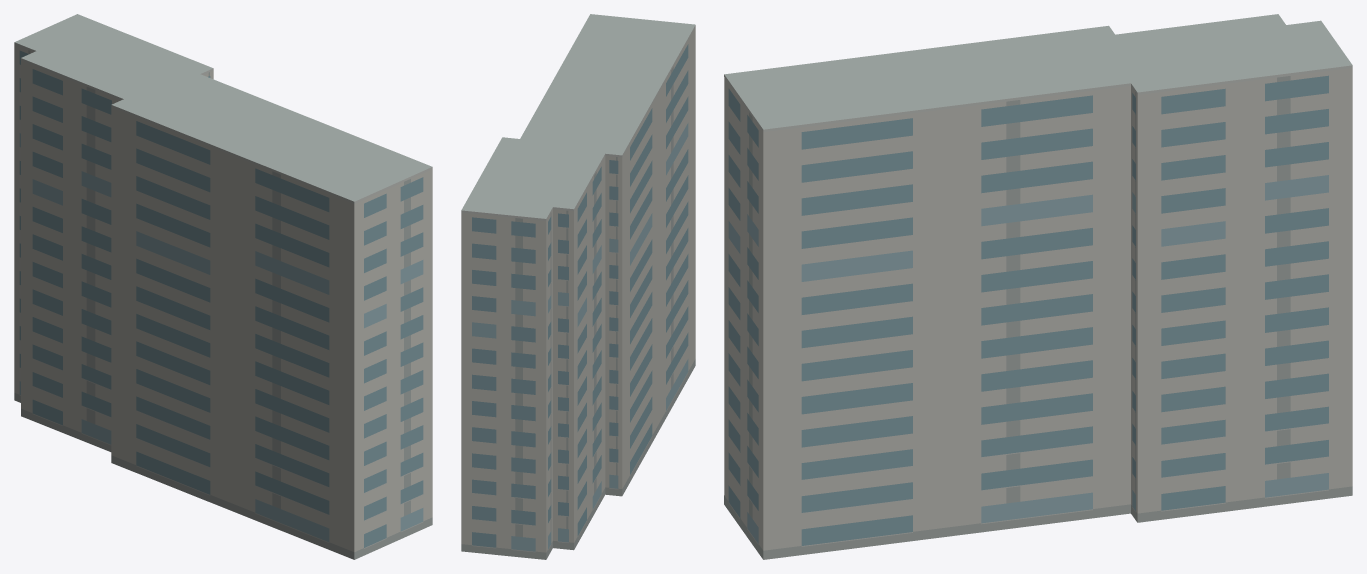
Rendered from residential-cee92b5c-17f3-4add-ae15-9ee59b8b569b.glb.
The picture shows the model from 3 angles, left to right: view 1: azimuth 30°, elevation 25°; view 2: azimuth 150°, elevation 25°; view 3: azimuth 270°, elevation 25°; orthographic projection. The views are drawn at different scales.
Visible parts, largest first — view 1: residential-cee92b5c-17f3-4add-ae15-9ee59b8b569b.tmp; view 2: residential-cee92b5c-17f3-4add-ae15-9ee59b8b569b.tmp; view 3: residential-cee92b5c-17f3-4add-ae15-9ee59b8b569b.tmp.
Part boxes in pixels (box(x1,y1,x2,y2)): residential-cee92b5c-17f3-4add-ae15-9ee59b8b569b.tmp: box(14, 14, 432, 559); residential-cee92b5c-17f3-4add-ae15-9ee59b8b569b.tmp: box(461, 14, 695, 559); residential-cee92b5c-17f3-4add-ae15-9ee59b8b569b.tmp: box(724, 14, 1352, 559).
Bounding box in the file's own units: 22.87 × 39.65 × 52.51.
